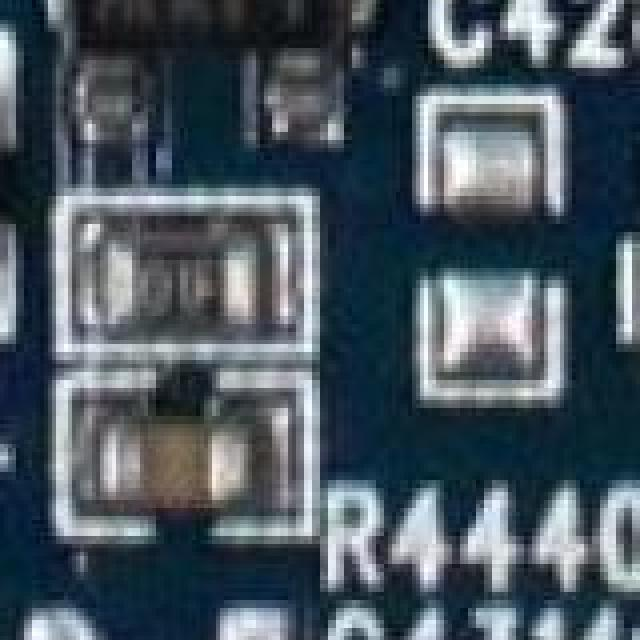capacitor: (72, 400, 276, 504)
resistor: (100, 228, 282, 332)
transistor: (36, 0, 364, 128), (604, 140, 640, 444)
